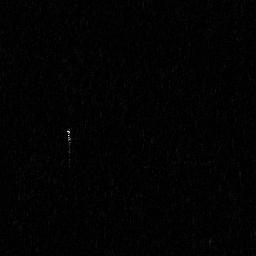ship: (66, 126, 73, 167)
